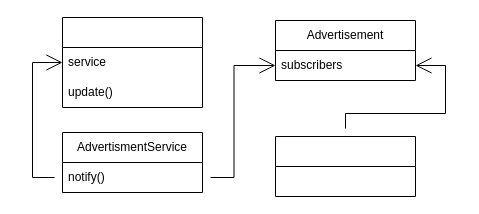
This 479x214 diagram has some shape labels left out. The box of each missing label's shape, as (x1, y1, x2, y2) in pixels:
AdvertisementFacade: (62, 16, 202, 108)
User: (274, 136, 416, 196)
